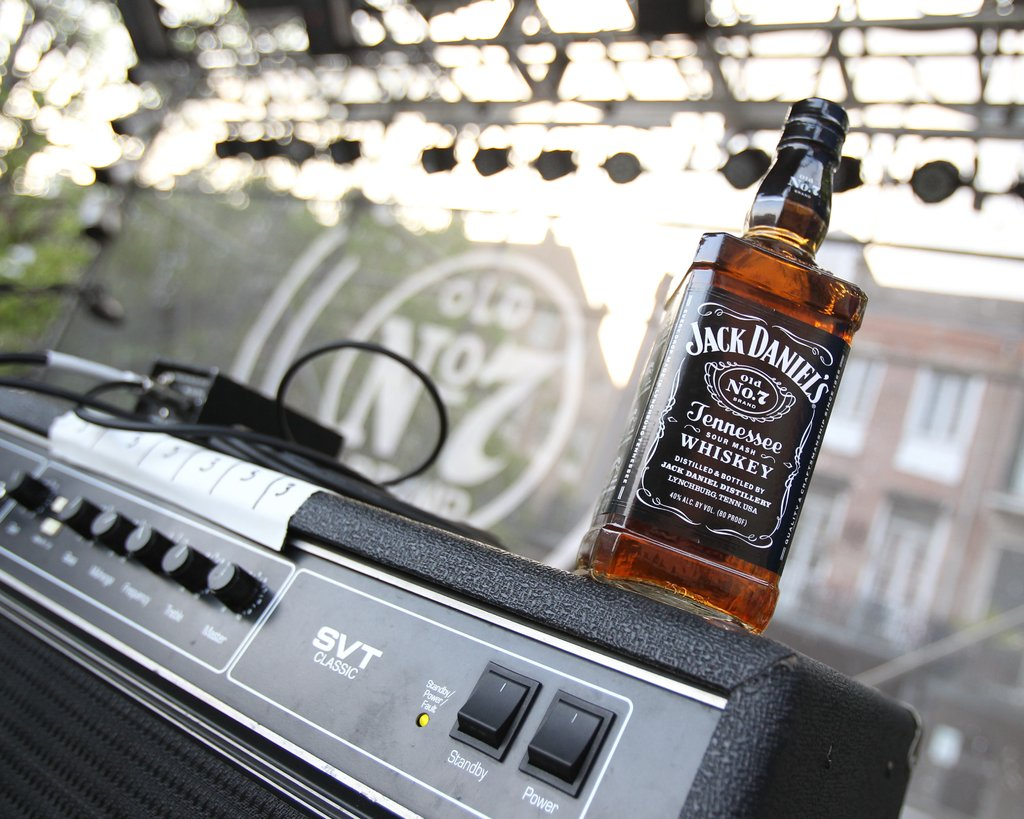Jack Daniel: (562, 84, 878, 646)
